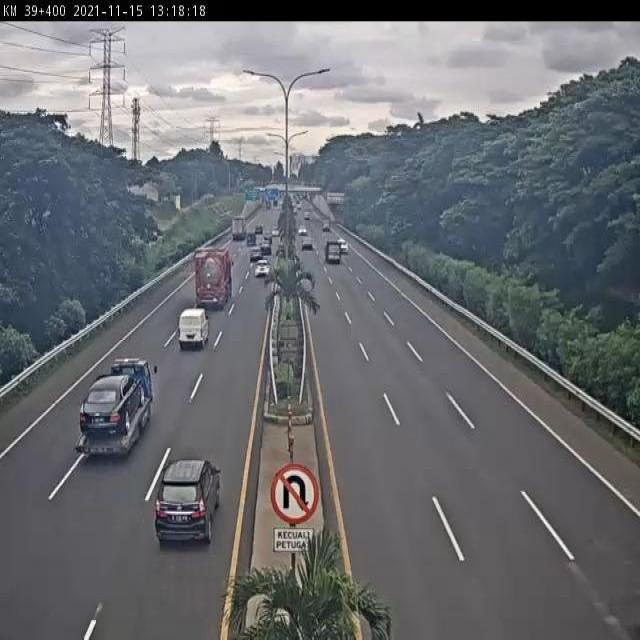bus-s-: (179, 307, 211, 349)
car: (155, 459, 222, 545), (254, 259, 271, 277)
truck-m-: (76, 353, 155, 463)
truck-xl-: (194, 249, 233, 311)
